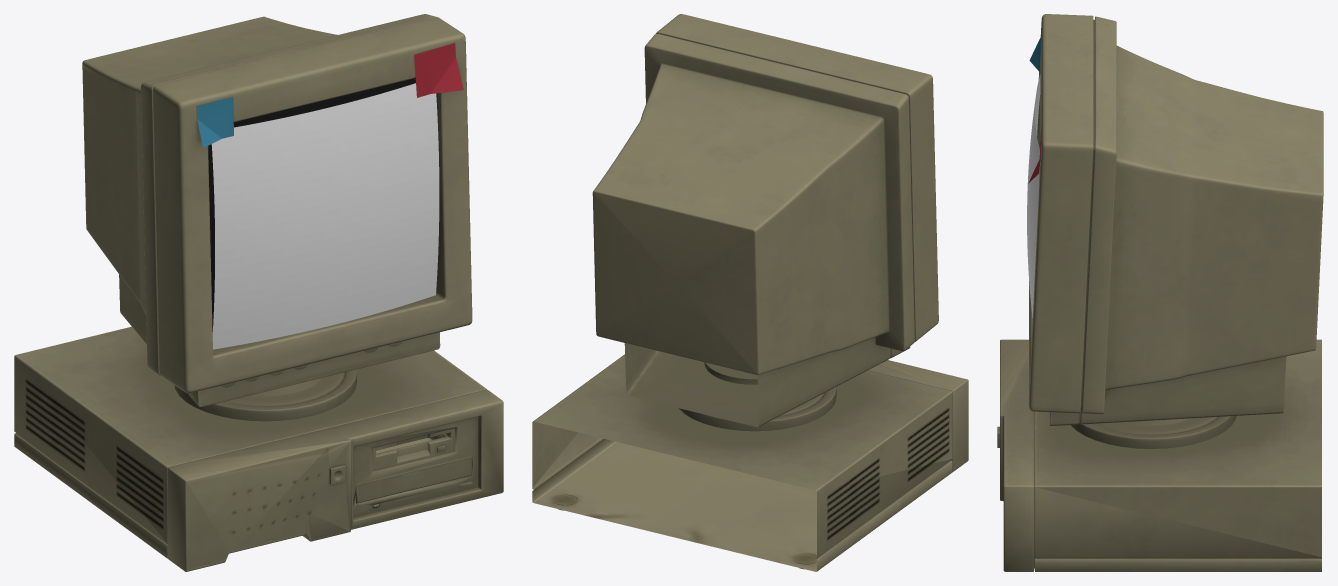
File: computer.glb
3 views of the same model, side by side, from view 1: azimuth 30°, elevation 25°; view 2: azimuth 150°, elevation 25°; view 3: azimuth 270°, elevation 25° (orthographic). The views are drawn at different scales.
Visible parts, largest first — view 1: case, screen; view 2: case; view 3: case, screen.
Part boxes in pixels (bbox=[...]): case: bbox=[14, 14, 503, 571]; screen: bbox=[211, 83, 439, 349]; case: bbox=[532, 14, 968, 571]; case: bbox=[997, 14, 1323, 571]; screen: bbox=[1027, 74, 1040, 317].
Size of the model in its own units: 0.3574 by 0.4849 by 0.3353.
2 materials, 1 textured.
